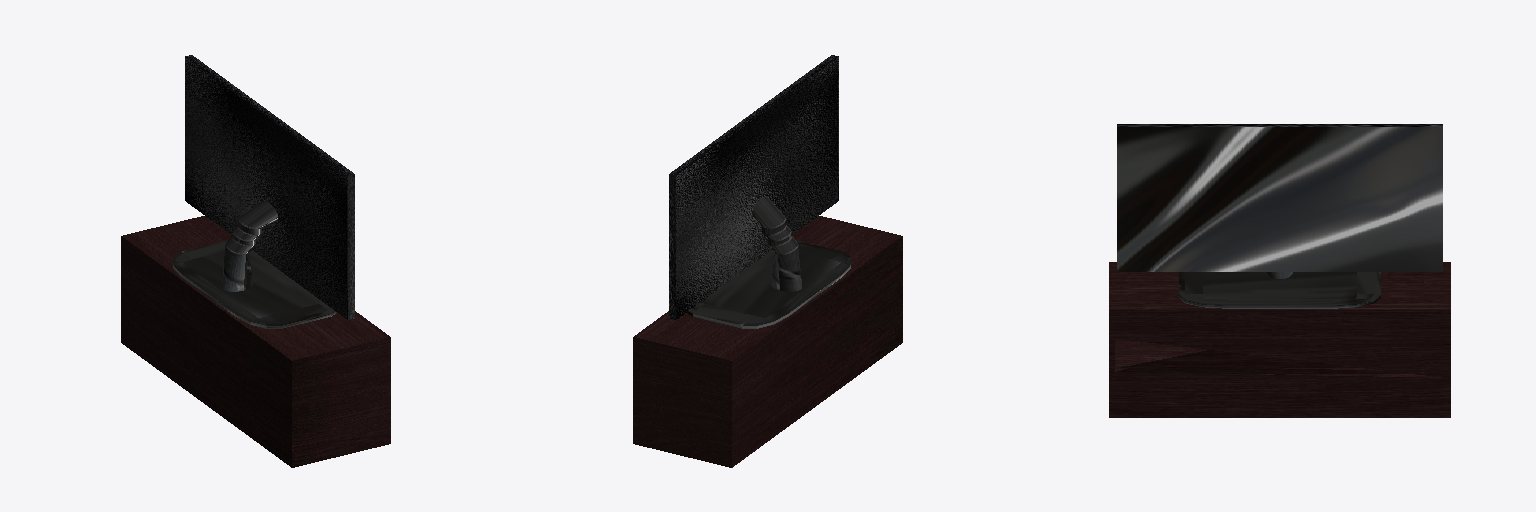
3 views of the same model, side by side, from view 1: azimuth 30°, elevation 25°; view 2: azimuth 150°, elevation 25°; view 3: azimuth 270°, elevation 25° (orthographic).
Parts seen in each view (by area): view 1: Cube_Cube.003, Cube.002_Cube.012, Cube.001_Cube.009, Cylinder; view 2: Cube_Cube.003, Cube.002_Cube.012, Cube.001_Cube.009, Cylinder; view 3: Cube.004_Cube.013, Cube_Cube.003, Cube.001_Cube.009, Cube.002_Cube.012.
Boxes of the visible parts, box(x1,y1,x2,y2) form: Cube_Cube.003: box(121, 216, 390, 467); Cube.002_Cube.012: box(185, 55, 354, 319); Cube.001_Cube.009: box(173, 240, 336, 328); Cylinder: box(222, 201, 277, 291); Cube_Cube.003: box(633, 216, 902, 467); Cube.002_Cube.012: box(669, 55, 838, 319); Cube.001_Cube.009: box(687, 240, 850, 328); Cylinder: box(752, 197, 801, 291); Cube.004_Cube.013: box(1117, 127, 1442, 271); Cube_Cube.003: box(1109, 262, 1450, 417); Cube.001_Cube.009: box(1179, 272, 1380, 308); Cube.002_Cube.012: box(1117, 124, 1442, 126).
Size of the model in its own units: 1.43 by 3.8 by 4.28.
4 materials, 4 textured.